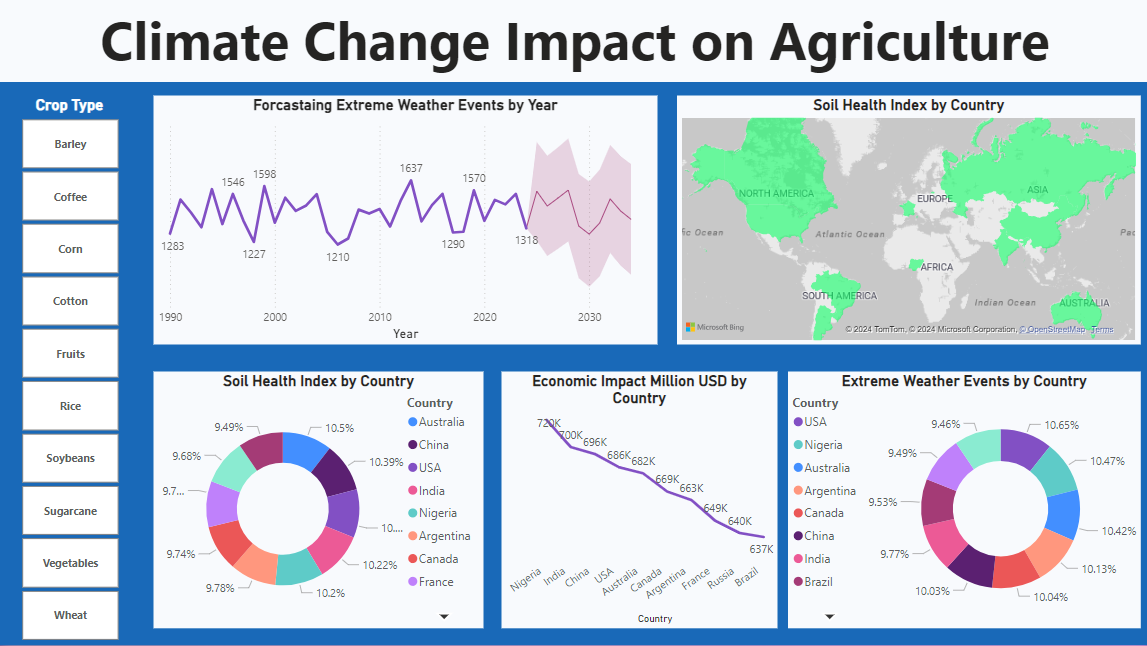

This screenshot's page, from the dashboard's own definition file:
{"tool":"powerbi","page":{"name":"Dashboard","canvas":[1280,720],"ordinal":0},"visuals":[{"type":"textbox","box":[0,0,1280,93.3],"z":0},{"type":"slicer","title":"Crop Type","fields":{"Values":["climate_change_impact_on_agriculture_2024.Crop_Type"]},"box":[0,108.3,156.7,611.7],"z":1},{"type":"lineChart","title":"Economic Impact Million USD by Country","fields":{"Category":["climate_change_impact_on_agriculture_2024.Country"],"Y":["Sum(climate_change_impact_on_agriculture_2024.Economic_Impact_Million_USD)"]},"box":[558.3,415,306.7,285],"z":2},{"type":"filledMap","title":"Soil Health Index by Country","fields":{"Category":["climate_change_impact_on_agriculture_2024.Country"]},"box":[753.3,108.3,515,276.7],"z":3},{"type":"donutChart","title":"Extreme Weather Events by Country","fields":{"Category":["climate_change_impact_on_agriculture_2024.Country"],"Y":["Sum(climate_change_impact_on_agriculture_2024.Extreme_Weather_Events)"]},"box":[876.7,415,391.7,285],"z":4},{"type":"donutChart","title":"Soil Health Index by Country","fields":{"Category":["climate_change_impact_on_agriculture_2024.Country"],"Y":["Sum(climate_change_impact_on_agriculture_2024.Soil_Health_Index)"]},"box":[171.7,415,366.7,285],"z":5},{"type":"lineChart","title":"Forcastaing Extreme Weather Events by Year","fields":{"Category":["climate_change_impact_on_agriculture_2024.Year"],"Y":["Sum(climate_change_impact_on_agriculture_2024.Extreme_Weather_Events)"]},"box":[171.7,108.3,560,276.7],"z":6}]}

Visuals, with their boxes in screenshot pixels (x1, y1, x2, y2), scaled from the page's 1280x720 canvas onto the 1147x646 screenshot:
textbox: (x1=0, y1=0, x2=1146, y2=84)
"Crop Type" slicer: (x1=0, y1=97, x2=140, y2=645)
"Economic Impact Million USD by Country" lineChart: (x1=500, y1=372, x2=775, y2=628)
"Soil Health Index by Country" filledMap: (x1=675, y1=97, x2=1137, y2=345)
"Extreme Weather Events by Country" donutChart: (x1=786, y1=372, x2=1137, y2=628)
"Soil Health Index by Country" donutChart: (x1=154, y1=372, x2=482, y2=628)
"Forcastaing Extreme Weather Events by Year" lineChart: (x1=154, y1=97, x2=656, y2=345)
